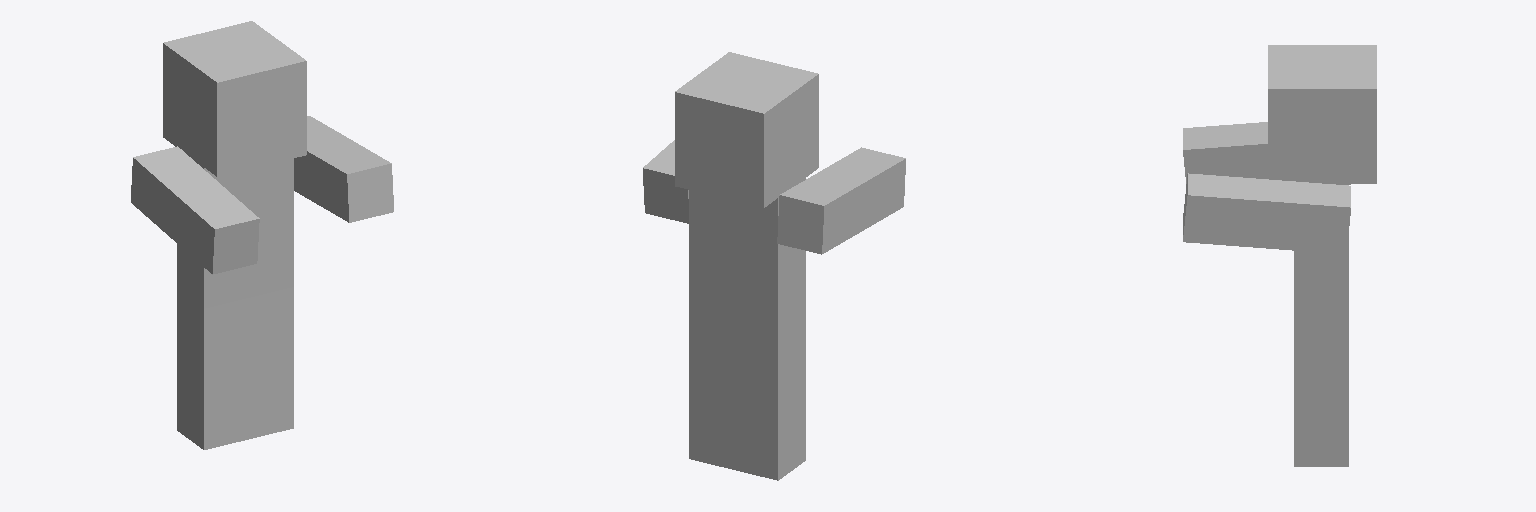
Rendered from Zombie.obj.
3 views of the same model, side by side, from view 1: azimuth 30°, elevation 25°; view 2: azimuth 150°, elevation 25°; view 3: azimuth 270°, elevation 25° (orthographic).
Parts seen in each view (by area): view 1: Head, Right_Foot, Right_Arm, Body, Left_Arm, Left_Foot; view 2: Head, Body, Right_Foot, Right_Arm, Left_Foot, Left_Arm; view 3: Head, Left_Arm, Left_Foot, Right_Arm, Body.
Part boxes in pixels (x1,y1,x2,y2): Head: (163, 21, 306, 176); Right_Foot: (177, 289, 248, 449); Right_Arm: (131, 146, 259, 274); Body: (177, 158, 293, 308); Left_Arm: (294, 116, 393, 222); Left_Foot: (249, 287, 293, 438); Head: (675, 52, 818, 207); Body: (689, 178, 805, 338); Right_Foot: (733, 319, 805, 480); Right_Arm: (777, 147, 905, 254); Left_Foot: (689, 318, 733, 469); Left_Arm: (643, 140, 688, 223); Head: (1268, 45, 1376, 183); Left_Arm: (1183, 173, 1350, 254); Left_Foot: (1294, 325, 1348, 466); Right_Arm: (1183, 122, 1350, 184); Body: (1294, 184, 1348, 324).
Size of the model in its own units: 1.01 by 2.02 by 0.9436.